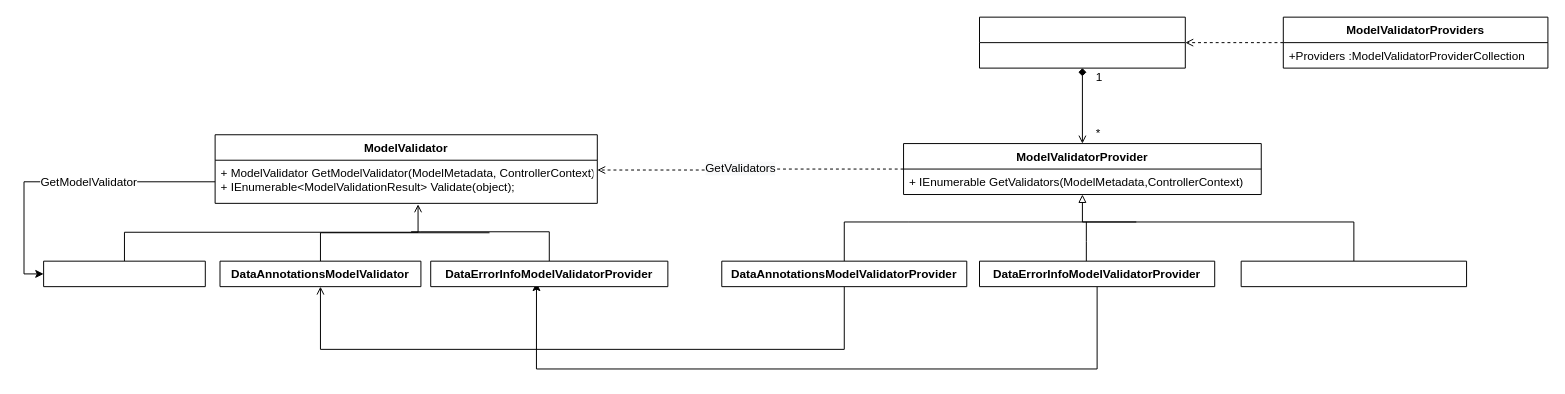
Image size: 1565x394. Some labels were removed from this diagram. Here are the shapes that lost their labels. From the top down, the centre of each, then its label:
At point (1082, 42): "ModelValidatorProviderCollection".
At point (124, 273): "CompositeModelValidator".
At point (1353, 273): "ClientDataTypeModelValidatorProvider".
